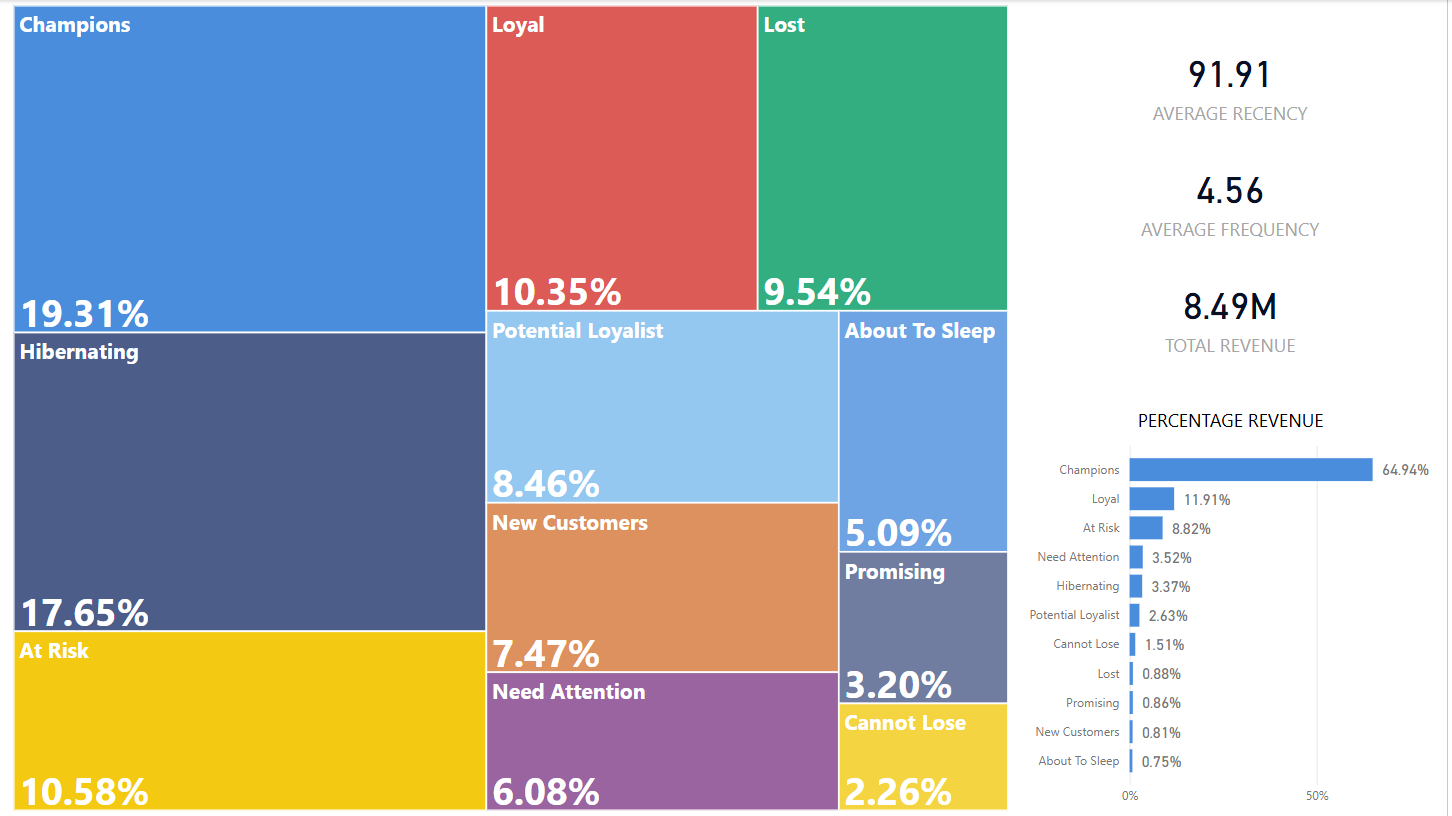

The dashboard page shown, as its layout file describes it:
{"tool":"powerbi","page":{"name":"Page 1","canvas":[1280,720],"ordinal":0},"visuals":[{"type":"treemap","fields":{"Group":["Query2.segment"],"Values":["Query2.Percentage Count Customers"]},"box":[10.5,0,887.4,720.1],"z":0},{"type":"clusteredBarChart","title":"PERCENTAGE REVENUE","fields":{"Y":["Query2.Percentage Revenue"],"Category":["Query2.segment"]},"box":[897.9,360.1,382.1,360.1],"z":1},{"type":"card","fields":{"Values":["Avg(Query2.recency)"]},"box":[897.9,22.1,382.1,102.2],"z":2},{"type":"card","fields":{"Values":["Avg(Query2.frequency)"]},"box":[897.9,124.3,382.1,102.2],"z":3},{"type":"card","fields":{"Values":["Sum(Query2.monetary)"]},"box":[897.9,226.5,382.1,102.2],"z":4}]}

Visuals, with their boxes in screenshot pixels (x1, y1, x2, y2), scaled from the page's 1280x720 canvas onto the 1452x816 screenshot:
treemap - Query2.segment x Query2.Percentage Count Customers: rect(12, 0, 1019, 815)
"PERCENTAGE REVENUE" clusteredBarChart: rect(1019, 408, 1451, 815)
card - Avg(Query2.recency): rect(1019, 25, 1451, 141)
card - Avg(Query2.frequency): rect(1019, 141, 1451, 257)
card - Sum(Query2.monetary): rect(1019, 257, 1451, 373)
